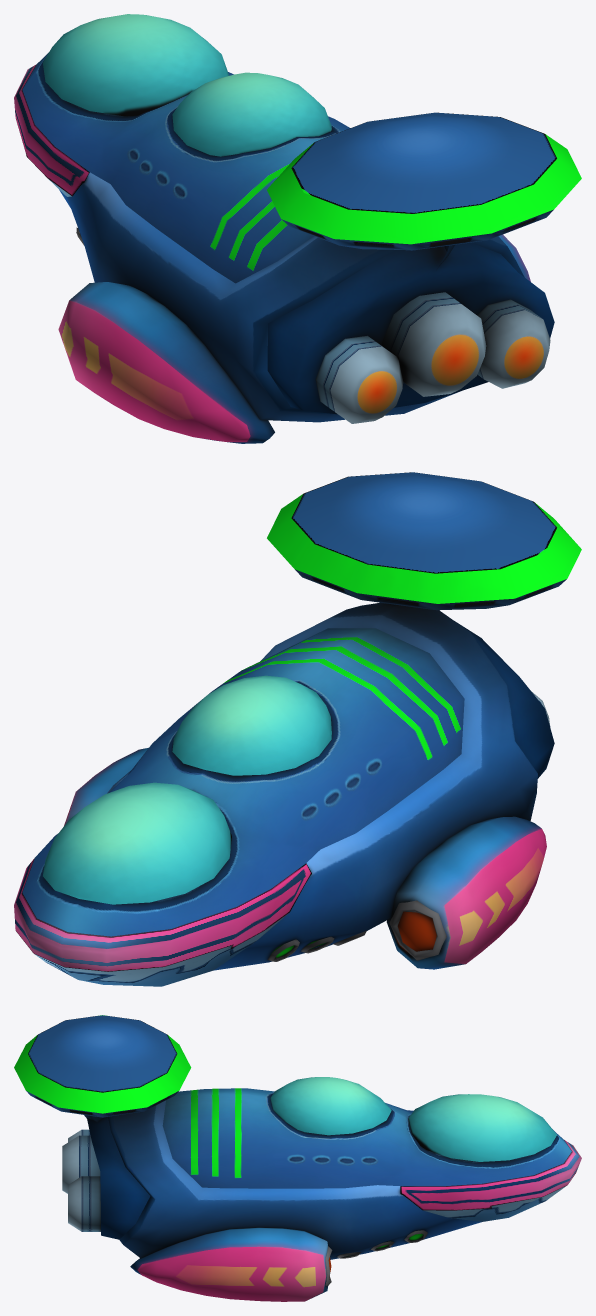
The model's file is Airship.fbx.
The picture shows the model from 3 angles, top to bottom: view 1: azimuth 30°, elevation 25°; view 2: azimuth 150°, elevation 25°; view 3: azimuth 270°, elevation 25°; orthographic projection. The views are drawn at different scales.
Parts seen in each view (by area): view 1: Airship; view 2: Airship; view 3: Airship.
Boxes of the visible parts, <box> form: Airship: <box>14,14,581,443</box>; Airship: <box>14,472,581,986</box>; Airship: <box>14,1015,581,1301</box>.
Size of the model in its own units: 952 by 707 by 1730.
